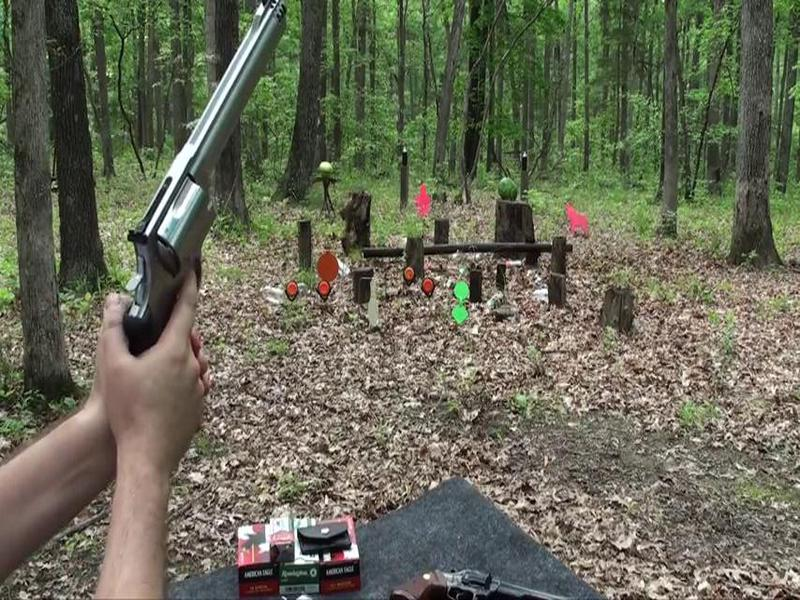Revolver: (104, 13, 287, 334)
